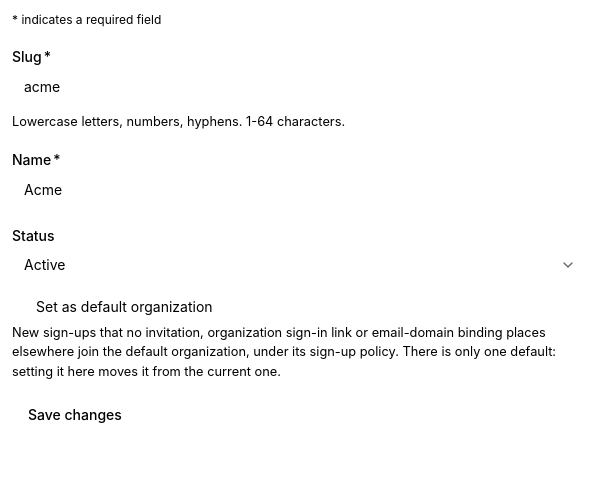
Test: OrganizationSettingsForm › the default organization (F-40) › a 409 organization_is_default is a root error, not a slug error
Step 1. Type " Corp" into the field labelled "Name" → (300, 189), box [12, 171, 588, 207]
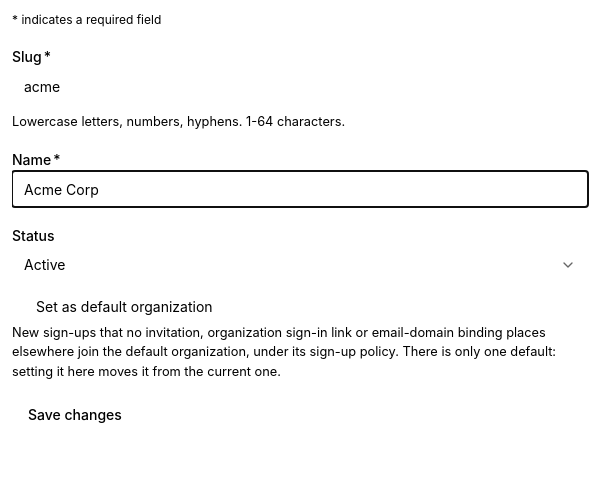
Step 2. Click the button "Save changes" → (75, 415), box [12, 397, 138, 433]
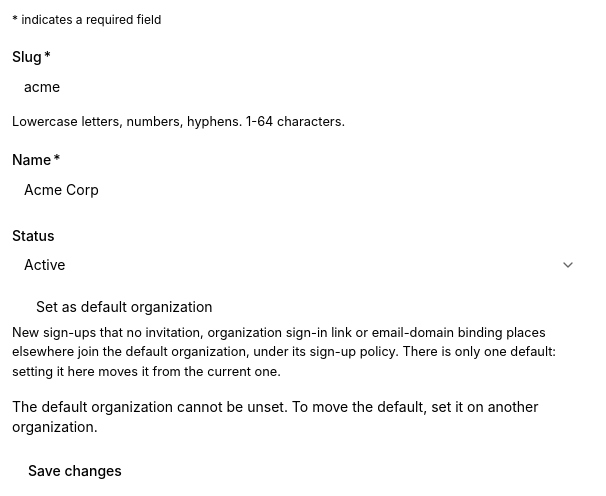
Check: the message shows "The default organization cannot be unset.", box [12, 398, 538, 435]
